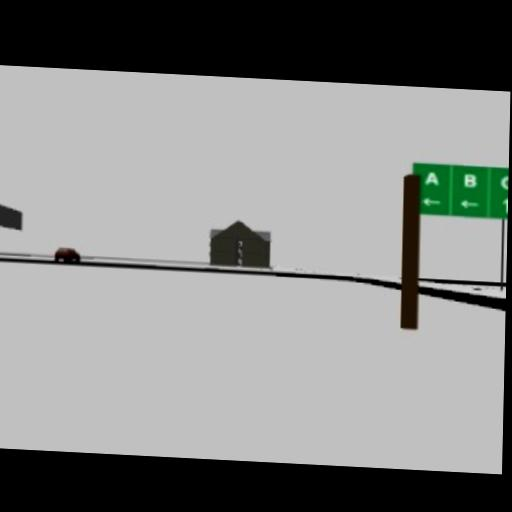A: (425, 170, 440, 187)
B: (462, 170, 479, 189)
C: (498, 172, 509, 191)
Left: (459, 197, 481, 210)
Right: (422, 195, 442, 208)
Straight: (501, 194, 508, 214)
